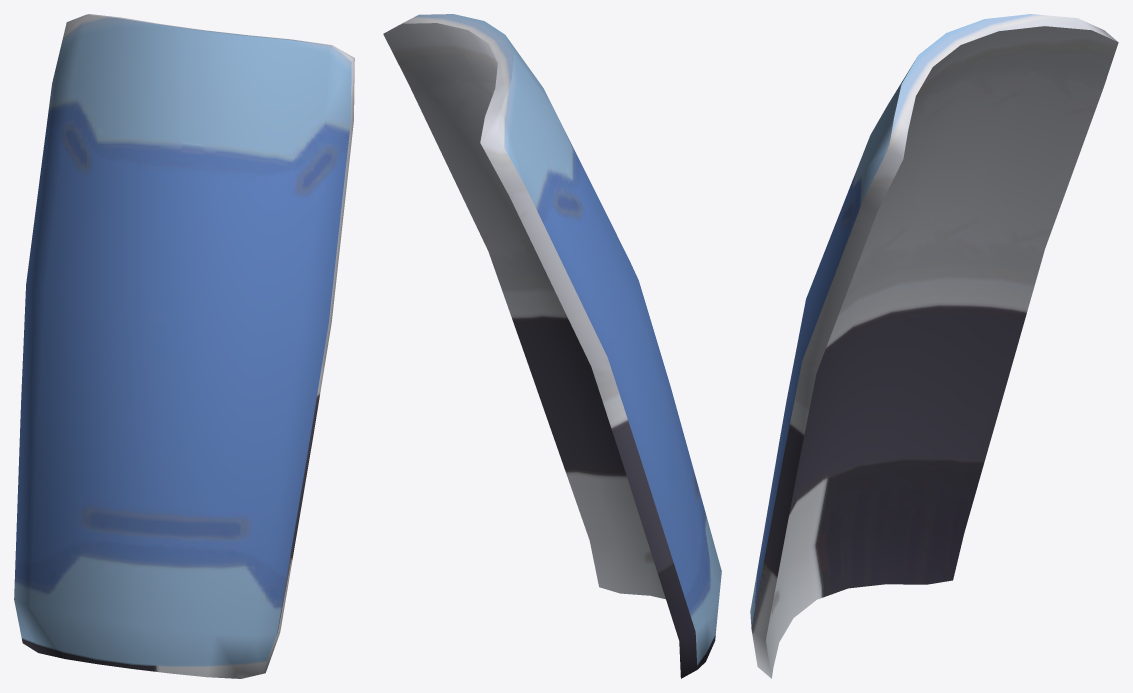
The model's file is mdlExecutionertTEASERDOOR.fbx.
3 renders of one model, left to right at view 1: azimuth 30°, elevation 25°; view 2: azimuth 150°, elevation 25°; view 3: azimuth 270°, elevation 25°, orthographic. The views are drawn at different scales.
Visible parts, largest first — view 1: EscapePodMesh.001; view 2: EscapePodMesh.001; view 3: EscapePodMesh.001.
Part boxes in pixels (x1,y1,x2,y2): EscapePodMesh.001: (14, 14, 354, 678); EscapePodMesh.001: (383, 14, 721, 678); EscapePodMesh.001: (750, 14, 1118, 678).
Size of the model in its own units: 93.65 by 163 by 83.39.
